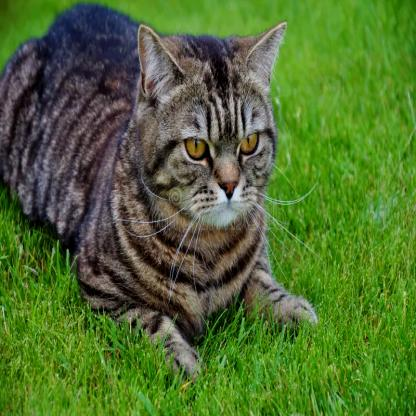cat: (78, 20, 288, 300)
